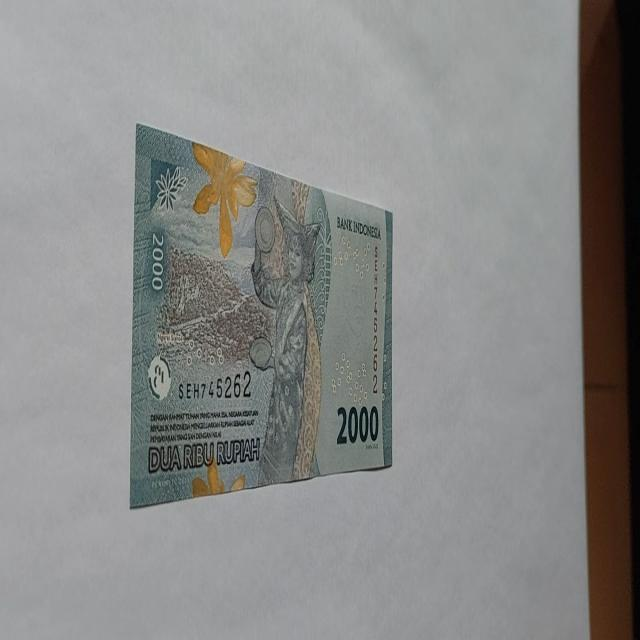dua ribu rupiah: (130, 125, 393, 508), (248, 193, 324, 487), (190, 140, 258, 258)
